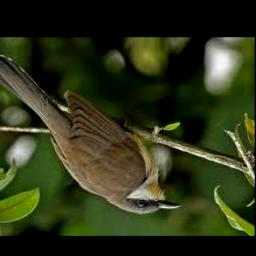Cuckoo: (0, 54, 182, 215)
